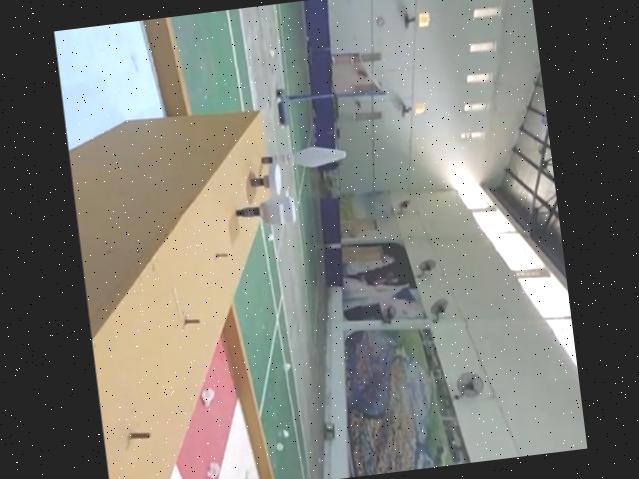Fist: (232, 191, 298, 231)
Hand: (244, 159, 281, 198)
Sph: (260, 142, 348, 176)
